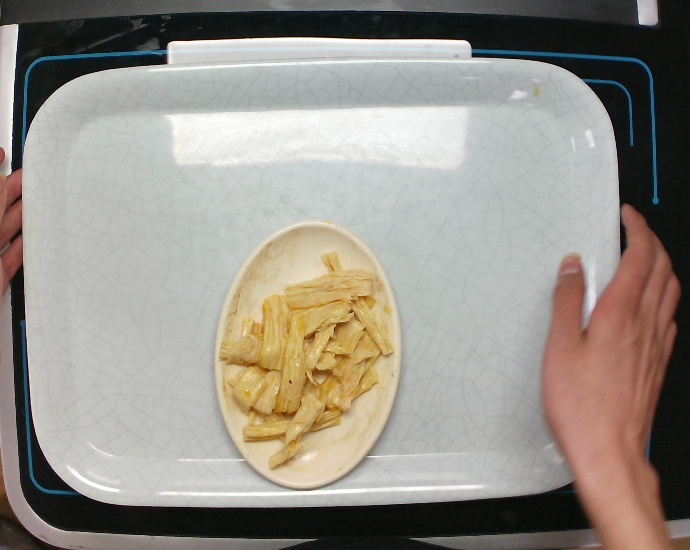JYsf-Tuo_Yuan_Wan: (213, 220, 405, 493)
